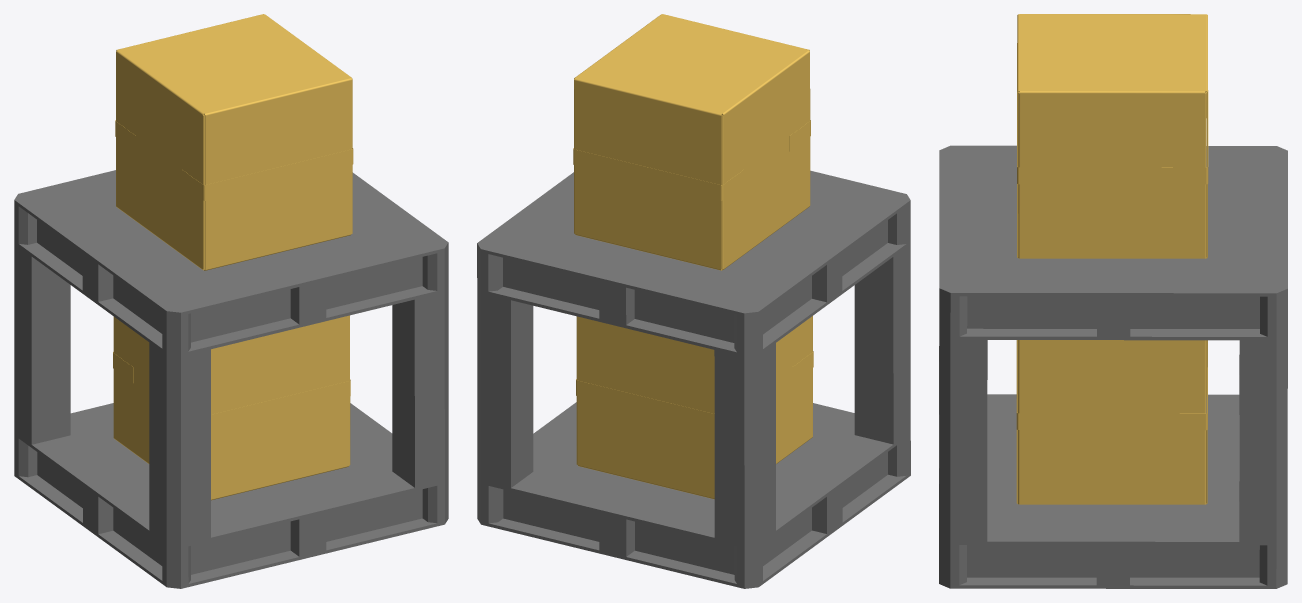
The model's file is two_box_big_not.dae.
3 renders of one model, left to right at view 1: azimuth 30°, elevation 25°; view 2: azimuth 150°, elevation 25°; view 3: azimuth 270°, elevation 25°, orthographic. The views are drawn at different scales.
Parts seen in each view (by area): view 1: 본체1, 본체1:3, 본체1:2, 본체1:1; view 2: 본체1, 본체1:3, 본체1:2, 본체1:1; view 3: 본체1, 본체1:3, 본체1:2, 본체1:1.
Boxes of the visible parts, bbox=[...] form: 본체1: bbox=[14, 244, 448, 588]; 본체1:3: bbox=[115, 14, 353, 270]; 본체1:2: bbox=[14, 170, 448, 356]; 본체1:1: bbox=[113, 315, 350, 500]; 본체1: bbox=[477, 244, 910, 588]; 본체1:3: bbox=[573, 14, 810, 270]; 본체1:2: bbox=[477, 170, 910, 357]; 본체1:1: bbox=[576, 316, 813, 499]; 본체1: bbox=[939, 335, 1287, 588]; 본체1:3: bbox=[1017, 14, 1208, 258]; 본체1:2: bbox=[939, 145, 1287, 340]; 본체1:1: bbox=[1016, 340, 1207, 504].
Size of the model in its own units: 94 by 94.09 by 138.
